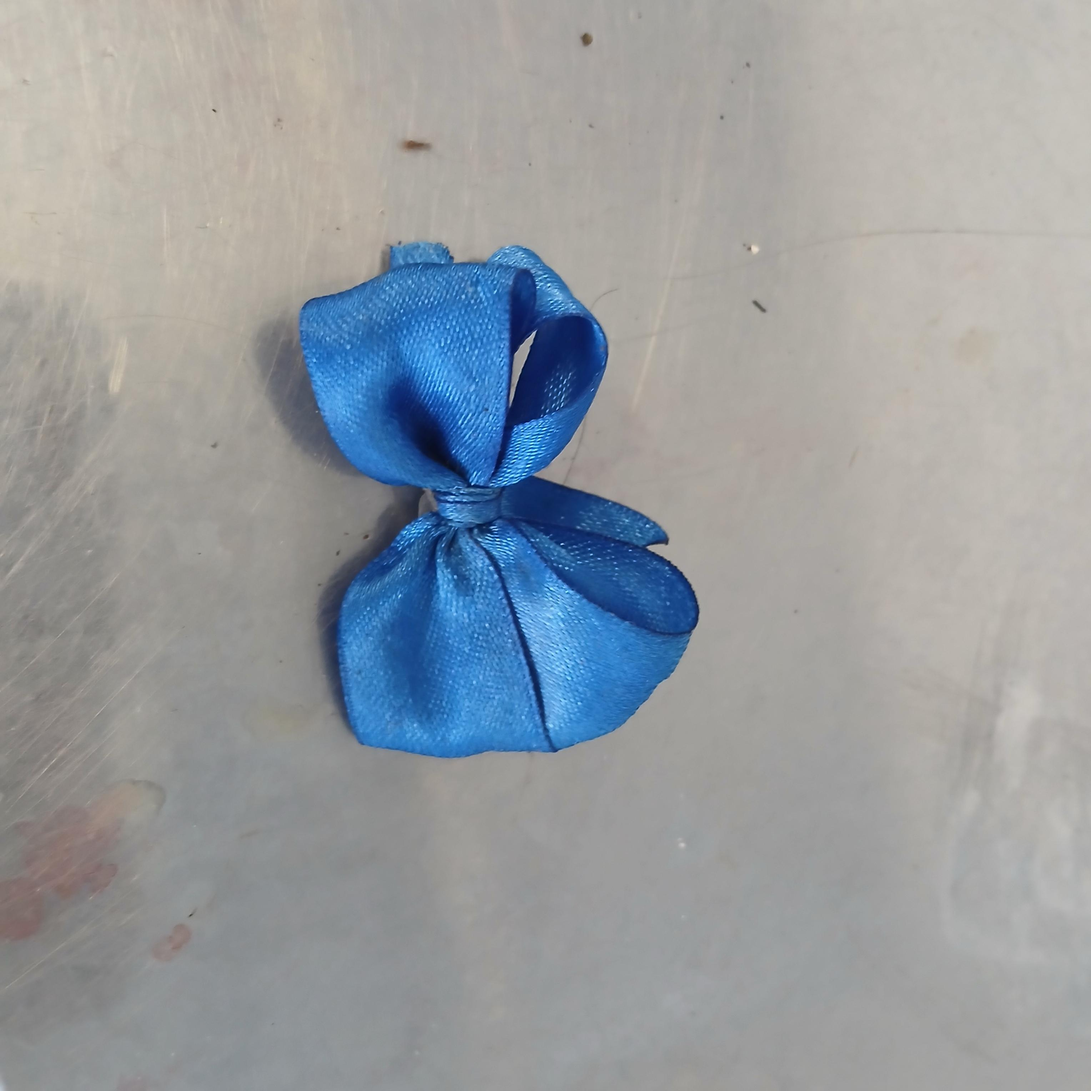Ordinario: (301, 240, 698, 756)
